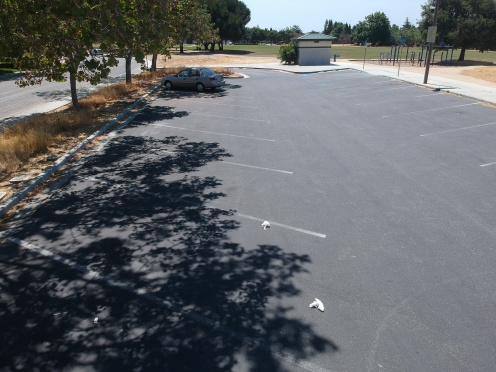plastic bag: (256, 218, 275, 231)
